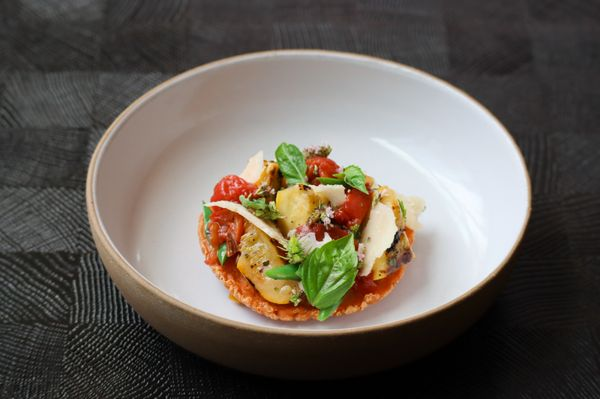curry: (275, 142, 307, 187)
sushi: (85, 44, 532, 383)
